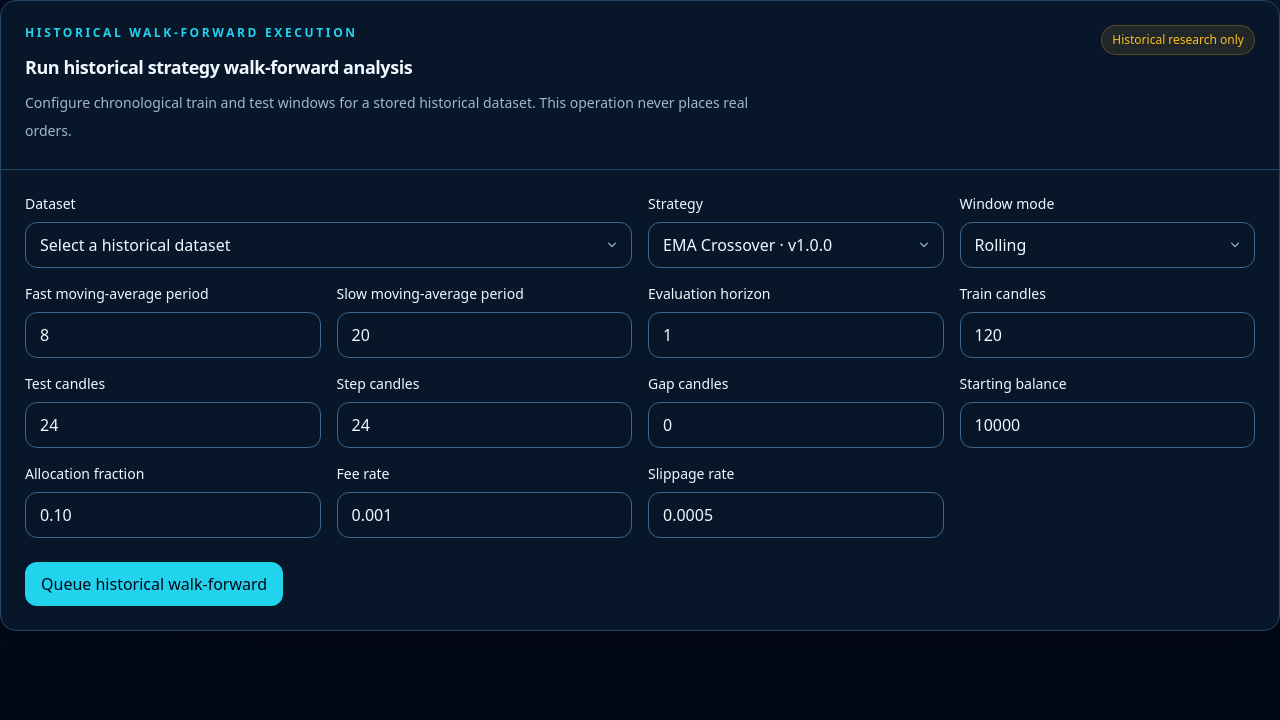
Test case: WalkForwardRunForm › uses catalog defaults for strategy-specific walk-forward fields
Check: the number field labelled "Fast moving-average period" holds "8", box top-left (25, 312), bottom-right (320, 358)
Check: the number field labelled "Slow moving-average period" holds "20", box top-left (336, 312), bottom-right (632, 358)
Select "RSI Threshold · v1.0.0" in the dropdown labelled "Strategy" at (796, 245), box top-left (648, 222), bottom-right (944, 268)
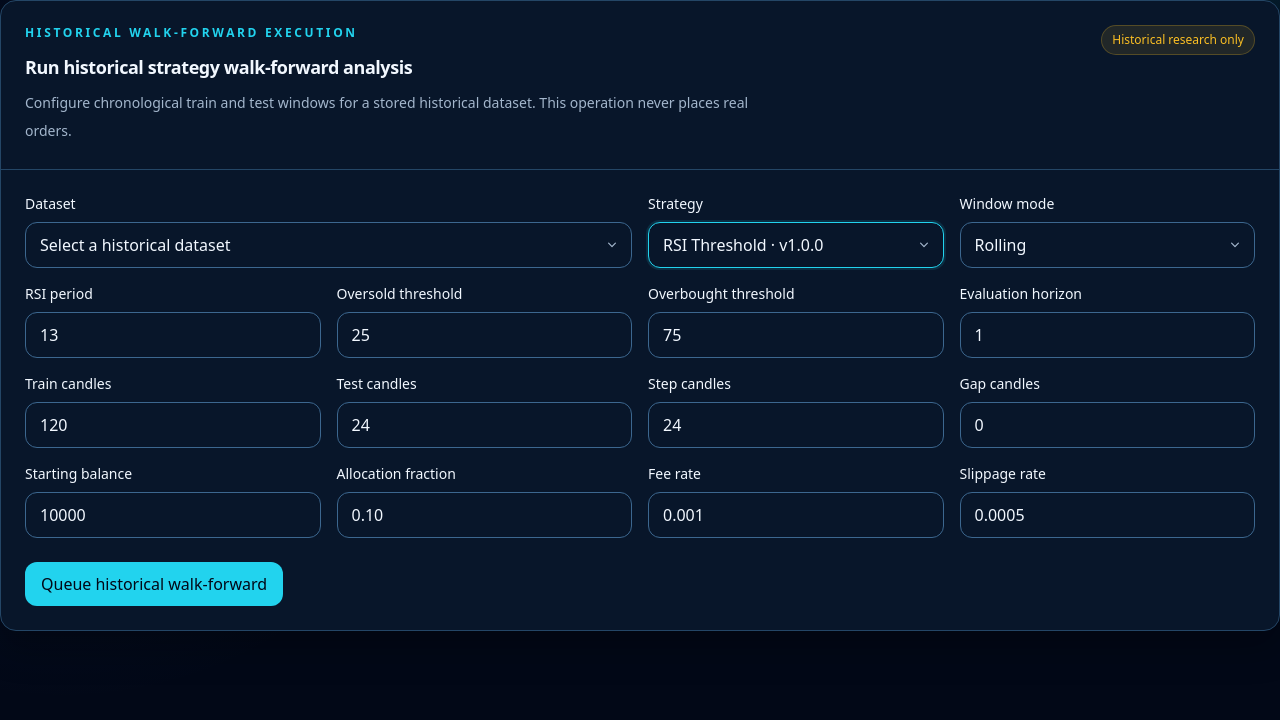
Check: the number field labelled "RSI period" holds "13", box top-left (25, 312), bottom-right (320, 358)
Check: the number field labelled "Oversold threshold" holds "25", box top-left (336, 312), bottom-right (632, 358)
Check: the number field labelled "Overbought threshold" holds "75", box top-left (648, 312), bottom-right (944, 358)
